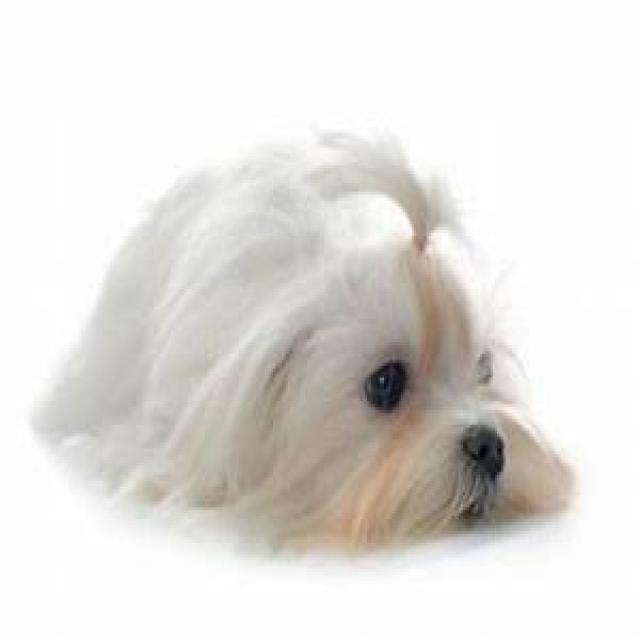dog: (26, 121, 580, 557)
